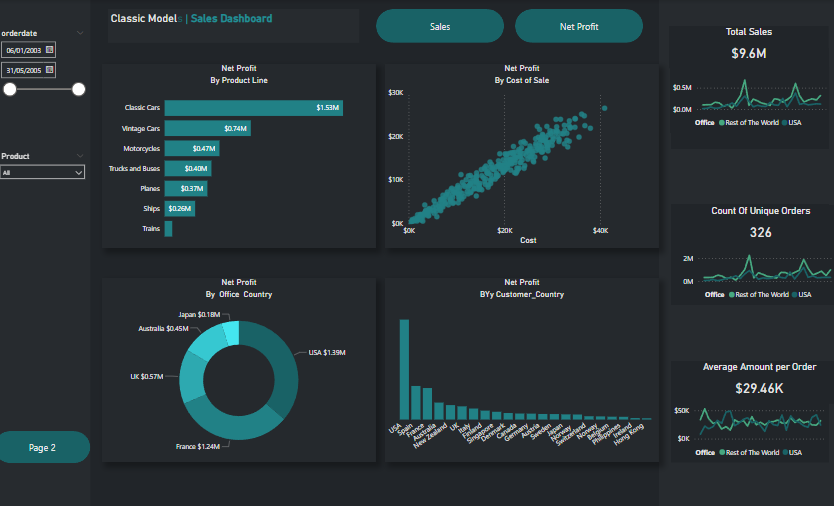

What the dashboard file says about the page in this screenshot:
{"tool":"powerbi","page":{"name":"Sales Overview Page 1","canvas":[1500,900],"ordinal":0},"visuals":[{"type":"shape","box":[0,0,170.8,899.2],"z":0},{"type":"shape","box":[1179,0,321,899.2],"z":1000},{"type":"shape","box":[1199.6,84.4,279.8,179],"z":2000},{"type":"shape","box":[1199.6,362.1,279.8,179],"z":3000},{"type":"shape","box":[1199.6,639.9,279.8,179],"z":4000},{"type":"card","title":"Total Sales","fields":{"Values":["Sum(Sales Data for Power BI.sales_value)"]},"box":[1196.2,46.1,282.8,75.4],"z":5000},{"type":"card","title":"Count Of Unique Orders","fields":{"Values":["Count(Sales Data for Power BI.ordernumber)"]},"box":[1217.2,362.4,282.8,75.4],"z":6000},{"type":"card","title":"Average Amount per Order","fields":{"Values":["Sales Data for Power BI.Average Sales Value Per Order"]},"box":[1216,639.9,281.9,76.1],"z":7000},{"type":"lineChart","fields":{"Y":["Sum(Sales Data for Power BI.sales_value)"],"Category":["Sales Data for Power BI.orderdate.Variation.Date Hierarchy.Year","Sales Data for Power BI.orderdate.Variation.Date Hierarchy.Quarter","Sales Data for Power BI.orderdate.Variation.Date Hierarchy.Month"],"Series":["Sales Data for Power BI.OfficeGrouped"]},"box":[1197.6,118.7,281.7,116.9],"z":8000},{"type":"lineChart","fields":{"Category":["Sales Data for Power BI.orderdate.Variation.Date Hierarchy.Year","Sales Data for Power BI.orderdate.Variation.Date Hierarchy.Quarter","Sales Data for Power BI.orderdate.Variation.Date Hierarchy.Month"],"Series":["Sales Data for Power BI.OfficeGrouped"],"Y":["Sum(Sales Data for Power BI.ordernumber)"]},"box":[1215.4,423.4,281.7,116.9],"z":9000},{"type":"lineChart","fields":{"Category":["Sales Data for Power BI.orderdate.Variation.Date Hierarchy.Year","Sales Data for Power BI.orderdate.Variation.Date Hierarchy.Quarter","Sales Data for Power BI.orderdate.Variation.Date Hierarchy.Month"],"Series":["Sales Data for Power BI.OfficeGrouped"],"Y":["Sales Data for Power BI.Average Sales Value Per Order"]},"box":[1200,704,280,116],"z":10000},{"type":"clusteredBarChart","fields":{"Y":["Table.Selected Metric"],"Category":["Sales Data for Power BI.productLine"]},"box":[191.3,113.4,485.4,326],"z":11000},{"type":"actionButton","box":[676.8,15.9,226.8,60.2],"z":12000},{"type":"actionButton","box":[923,15.9,226.8,60.2],"z":13000},{"type":"scatterChart","fields":{"Y":["Table.Selected Metric"],"X":["Sum(Sales Data for Power BI.cost_of_sales)"],"Category":["Sales Data for Power BI.ordernumber"]},"box":[692.7,113.4,485.4,326],"z":15000},{"type":"donutChart","fields":{"Y":["Table.Selected Metric"],"Category":["Sales Data for Power BI.office_country"]},"box":[191.3,492.5,485.4,326],"z":16000},{"type":"clusteredColumnChart","fields":{"Category":["Sales Data for Power BI.customer_country"],"Y":["Table.Selected Metric"]},"box":[692.7,492.5,485.4,326],"z":17000},{"type":"textbox","box":[202,15.9,444.7,60.2],"z":18000},{"type":"actionButton","box":[0,762.7,170.6,56.9],"z":20000},{"type":"slicer","fields":{"Values":["Sales Data for Power BI.orderdate"]},"box":[0,46.9,171.4,157.1],"z":21000},{"type":"slicer","title":"Product","fields":{"Values":["Sales Data for Power BI.productName"]},"box":[0,263.3,171.4,157.1],"z":23000}]}

Visuals, with their boxes in screenshot pixels (x1, y1, x2, y2), scaled from the page's 1500x900 canvas onto the 834x506 screenshot:
shape: {"left": 0, "top": 0, "right": 95, "bottom": 505}
shape: {"left": 656, "top": 0, "right": 833, "bottom": 505}
shape: {"left": 667, "top": 47, "right": 823, "bottom": 148}
shape: {"left": 667, "top": 204, "right": 823, "bottom": 304}
shape: {"left": 667, "top": 360, "right": 823, "bottom": 460}
"Total Sales" card: {"left": 665, "top": 26, "right": 822, "bottom": 68}
"Count Of Unique Orders" card: {"left": 677, "top": 204, "right": 833, "bottom": 246}
"Average Amount per Order" card: {"left": 676, "top": 360, "right": 833, "bottom": 403}
lineChart - Sum(Sales Data for Power BI.sales_value) x Sales Data for Power BI.orderdate.Variation.Date Hierarchy.Year: {"left": 666, "top": 67, "right": 822, "bottom": 132}
lineChart - Sales Data for Power BI.orderdate.Variation.Date Hierarchy.Year x Sales Data for Power BI.orderdate.Variation.Date Hierarchy.Quarter: {"left": 676, "top": 238, "right": 832, "bottom": 304}
lineChart - Sales Data for Power BI.orderdate.Variation.Date Hierarchy.Year x Sales Data for Power BI.orderdate.Variation.Date Hierarchy.Quarter: {"left": 667, "top": 396, "right": 823, "bottom": 461}
clusteredBarChart - Table.Selected Metric x Sales Data for Power BI.productLine: {"left": 106, "top": 64, "right": 376, "bottom": 247}
actionButton: {"left": 376, "top": 9, "right": 502, "bottom": 43}
actionButton: {"left": 513, "top": 9, "right": 639, "bottom": 43}
scatterChart - Table.Selected Metric x Sum(Sales Data for Power BI.cost_of_sales): {"left": 385, "top": 64, "right": 655, "bottom": 247}
donutChart - Table.Selected Metric x Sales Data for Power BI.office_country: {"left": 106, "top": 277, "right": 376, "bottom": 460}
clusteredColumnChart - Sales Data for Power BI.customer_country x Table.Selected Metric: {"left": 385, "top": 277, "right": 655, "bottom": 460}
textbox: {"left": 112, "top": 9, "right": 360, "bottom": 43}
actionButton: {"left": 0, "top": 429, "right": 95, "bottom": 461}
slicer - Sales Data for Power BI.orderdate: {"left": 0, "top": 26, "right": 95, "bottom": 115}
"Product" slicer: {"left": 0, "top": 148, "right": 95, "bottom": 236}
